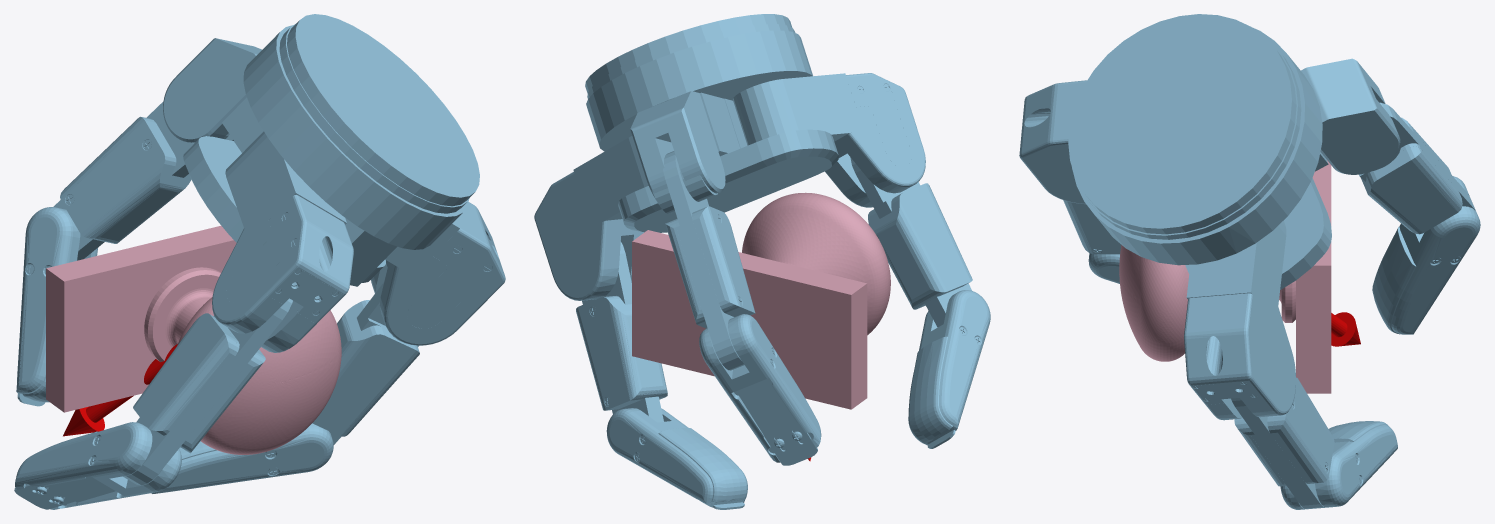
3 views of the same model, side by side, from view 1: azimuth 30°, elevation 25°; view 2: azimuth 150°, elevation 25°; view 3: azimuth 270°, elevation 25° (orthographic). The views are drawn at different scales.
Parts seen in each view (by area): view 1: world, door_knob.stl; view 2: world, door_knob.stl; view 3: world, door_knob.stl.
Boxes of the visible parts, x1,y1,x2,y2 form: world: (14,14,505,509); door_knob.stl: (46,225,341,454); world: (534,14,990,509); door_knob.stl: (632,192,890,409); world: (1019,14,1480,509); door_knob.stl: (1119,160,1331,393).
Bounding box in the file's own units: 0.1918 × 0.1863 × 0.1633.
